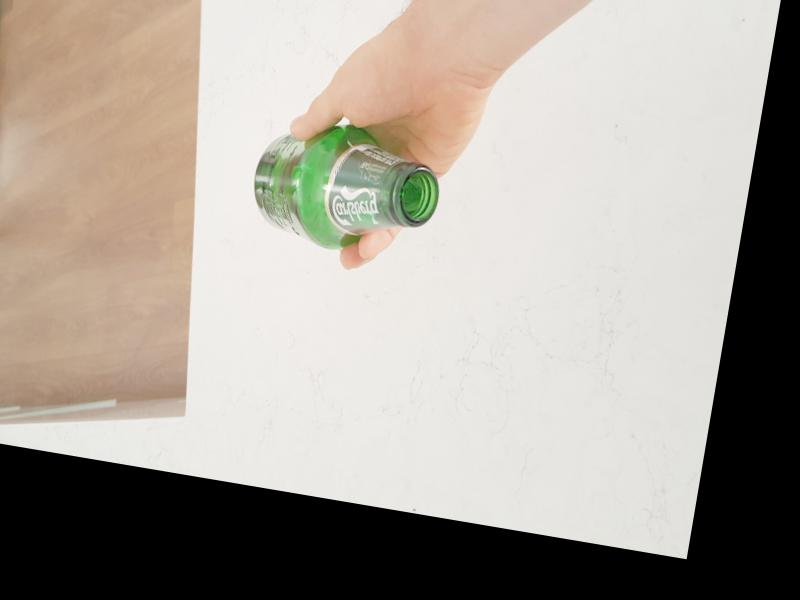Beer: (244, 112, 448, 264)
